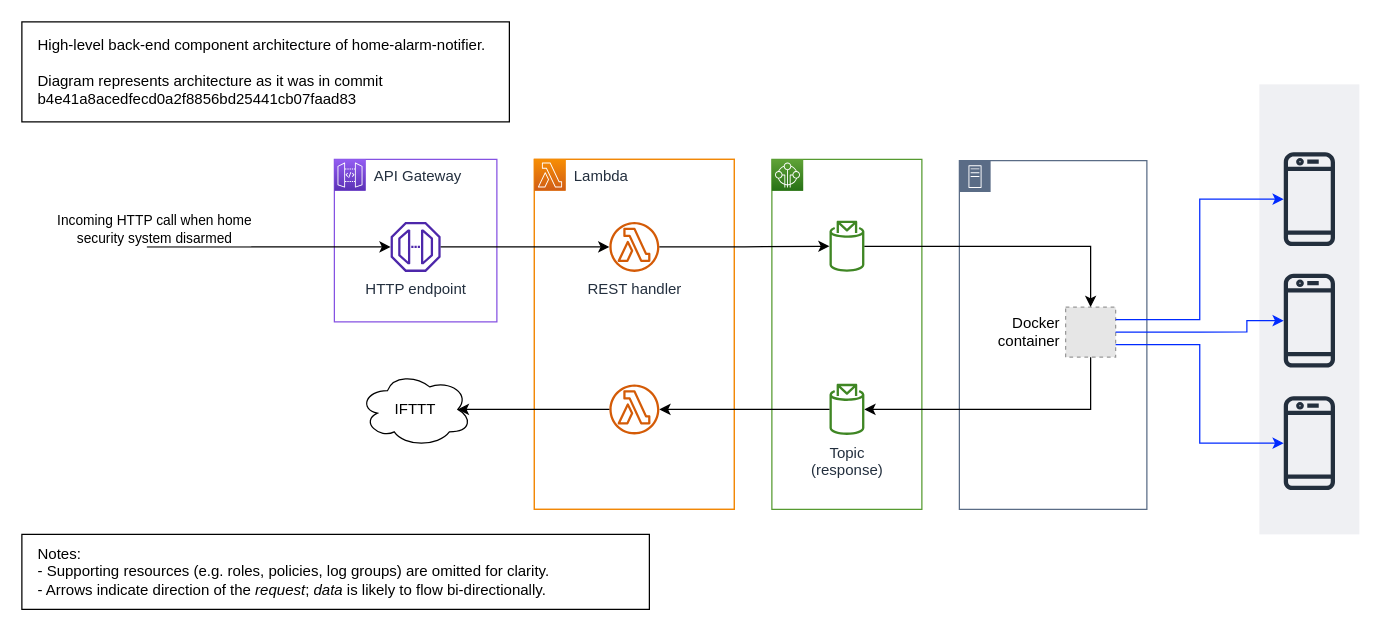
The diagram is 1381 pixels wide and 631 high, and some of its shapes have lost their labels. Grey dashed boxes stand in for pictures. The shapes that lost their labels are listed below. From the top down, each one's box as (x1, y1, x2, y2) in pixels, then its label:
(829, 220, 864, 271): Topic (trigger)
(1259, 84, 1359, 534): User devices
(771, 158, 922, 509): IOT
(958, 159, 1147, 509): Edge compute
(609, 384, 659, 434): Response handler
